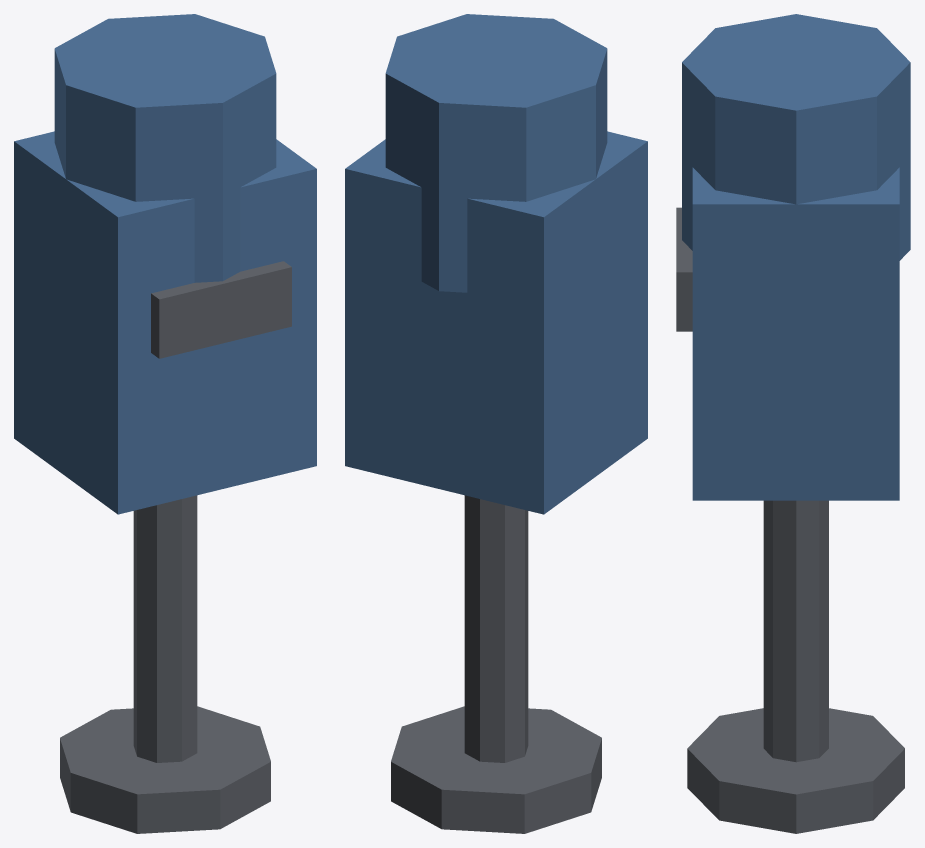
The model's file is arkham_street_mailbox.glb.
3 renders of one model, left to right at view 1: azimuth 30°, elevation 25°; view 2: azimuth 150°, elevation 25°; view 3: azimuth 270°, elevation 25°, orthographic.
Parts seen in each view (by area): view 1: Arkham_Street_Mailbox; view 2: Arkham_Street_Mailbox; view 3: Arkham_Street_Mailbox.
Part boxes in pixels (x1,y1,x2,y2): Arkham_Street_Mailbox: (14, 14, 316, 833); Arkham_Street_Mailbox: (345, 14, 647, 833); Arkham_Street_Mailbox: (676, 14, 910, 833).
Bounding box in the file's own units: 0.42 × 1.47 × 0.43.
